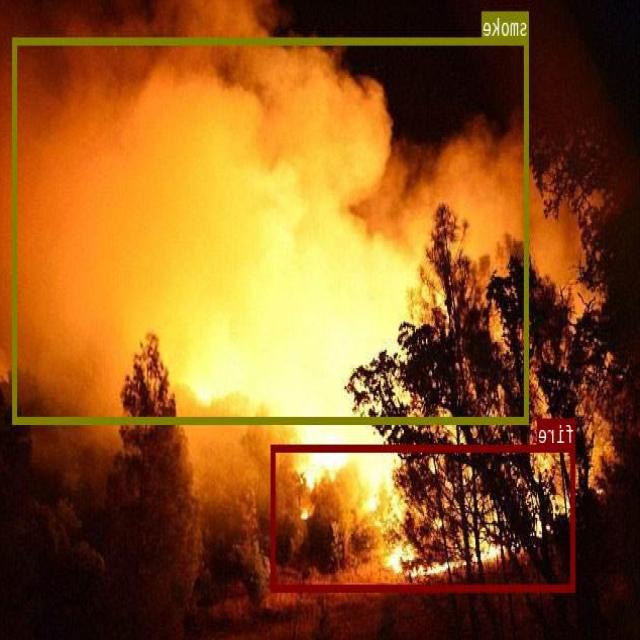fire: (272, 445, 576, 590)
smoke: (14, 37, 529, 423)
